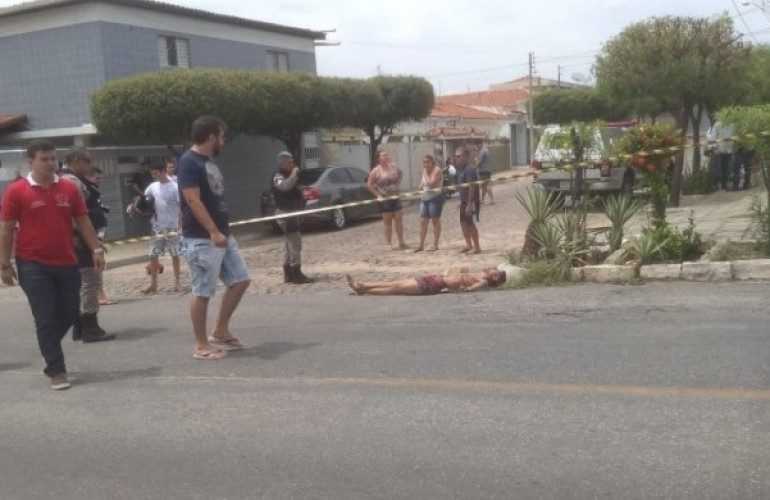Humano: (3, 139, 80, 405), (177, 117, 258, 364), (59, 145, 124, 343), (265, 146, 315, 294), (335, 262, 521, 299), (140, 158, 186, 303), (368, 144, 410, 251), (411, 156, 450, 259), (450, 138, 485, 250), (470, 132, 497, 203), (89, 164, 109, 190), (165, 150, 180, 184)
